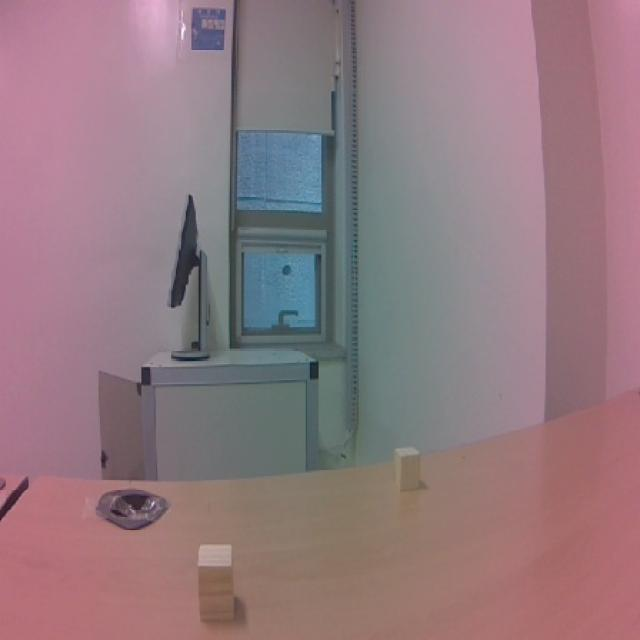obstacle: (194, 532, 248, 636), (388, 443, 430, 497)
